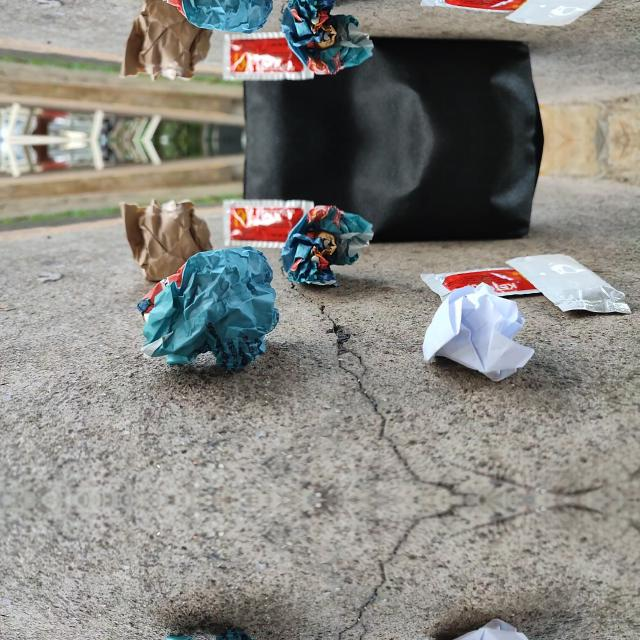paper: (137, 239, 285, 379), (420, 284, 532, 382), (110, 189, 218, 281), (109, 0, 218, 91), (282, 207, 368, 285), (282, 0, 367, 73), (137, 0, 285, 41), (137, 621, 285, 640), (420, 618, 532, 640)
